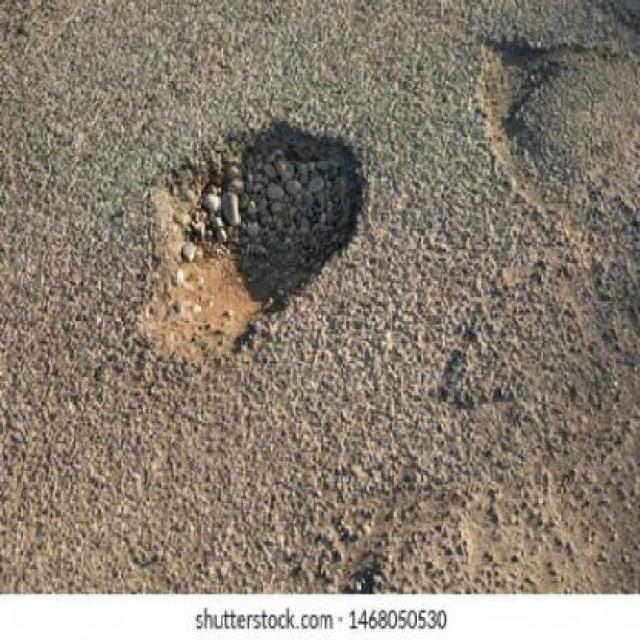Buraco: (125, 116, 372, 374)
